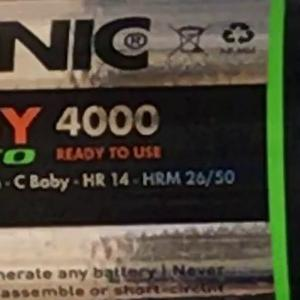keyword: (74, 165, 137, 195)
